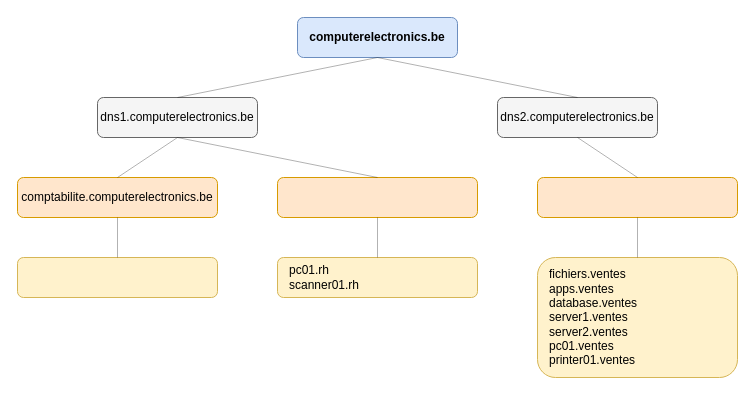
This 755x395 diagram has some shape labels left out. The shapes that lost their labels are listed below. From the top down, each one's box as (x1, y1, x2, y2) in pixels, then its label:
(276, 176, 478, 218): rh.computerelectronics.be
(536, 176, 738, 218): ventes.computerelectronics.be
(16, 256, 218, 298): pc01.comptabilite printer01.comptabilite
